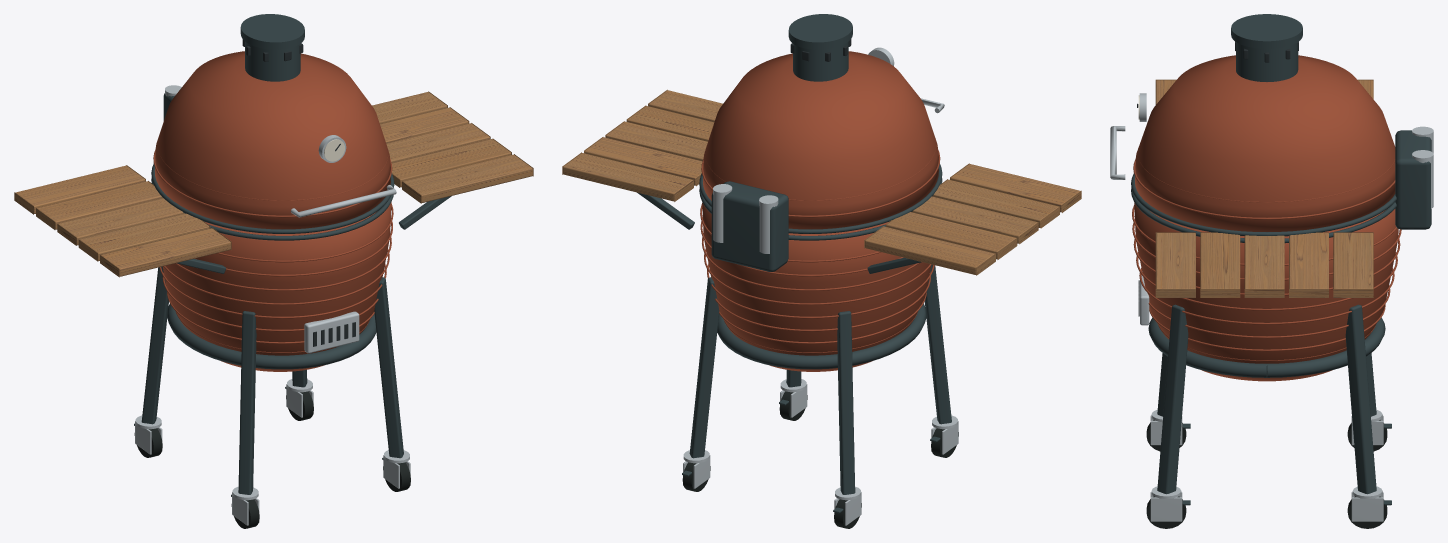
File: outdoor-kamado-grill.glb
The picture shows the model from 3 angles, left to right: view 1: azimuth 30°, elevation 25°; view 2: azimuth 150°, elevation 25°; view 3: azimuth 270°, elevation 25°; orthographic projection. The views are drawn at different scales.
Visible parts, largest first — view 1: catalog_surface_UVMap, catalog_surface_RealismUV; view 2: catalog_surface_UVMap, catalog_surface_RealismUV; view 3: catalog_surface_UVMap, catalog_surface_RealismUV.
Part boxes in pixels (box(x1,y1,x2,y2)): catalog_surface_UVMap: box(14, 39, 533, 371); catalog_surface_RealismUV: box(134, 14, 451, 528); catalog_surface_UVMap: box(562, 39, 1081, 371); catalog_surface_RealismUV: box(637, 14, 958, 528); catalog_surface_UVMap: box(1132, 41, 1401, 381); catalog_surface_RealismUV: box(1110, 14, 1433, 528).
Bounding box in the file's own units: 1.18 × 1.21 × 0.77.
9 materials, 3 textured.
